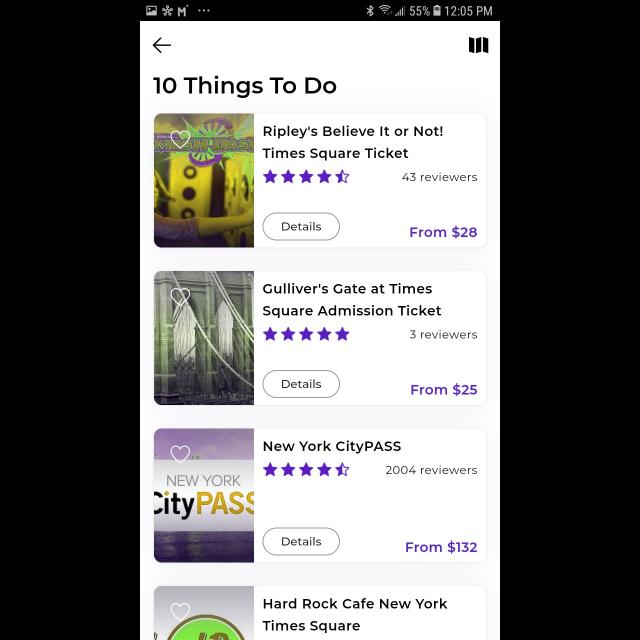icon: (262, 463, 350, 477), (262, 170, 350, 184), (264, 327, 350, 341), (170, 288, 190, 306), (469, 36, 489, 54), (172, 603, 190, 621), (172, 446, 190, 464), (152, 38, 172, 54), (172, 132, 190, 148)
image: (154, 429, 254, 563), (154, 271, 254, 405), (154, 114, 254, 248), (154, 586, 253, 640)
text: (262, 598, 448, 634), (263, 126, 443, 162), (263, 282, 441, 318), (154, 76, 336, 100), (263, 440, 401, 454), (407, 540, 478, 554), (410, 226, 478, 238), (412, 384, 476, 396), (402, 172, 478, 182), (386, 466, 478, 474), (409, 330, 476, 340)
textbutton: (263, 528, 341, 556), (263, 370, 341, 398), (263, 213, 341, 241)
uppertaskbar: (140, 1, 500, 22)
